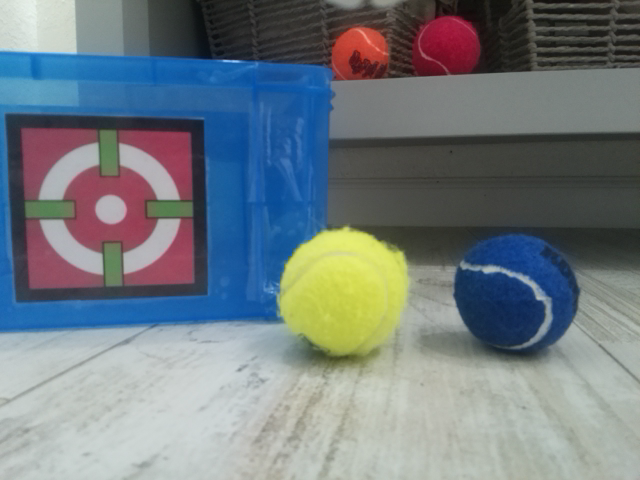blue-ball: (451, 232, 581, 356)
drop-bin: (4, 112, 210, 302)
orange-ball: (330, 25, 391, 87)
red-ball: (410, 14, 481, 82)
yellow-ball: (276, 226, 410, 359)
